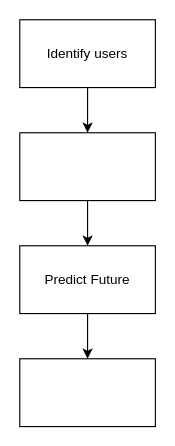
The diagram is 175 pixels wide and 446 high, and some of its shapes have lost their labels. The shapes that lost their labels are listed below. From the top down, each one's centre as x and y in pixels, then its label:
(87,166): Identify current and historical behaviour
(87,392): Send back future action
